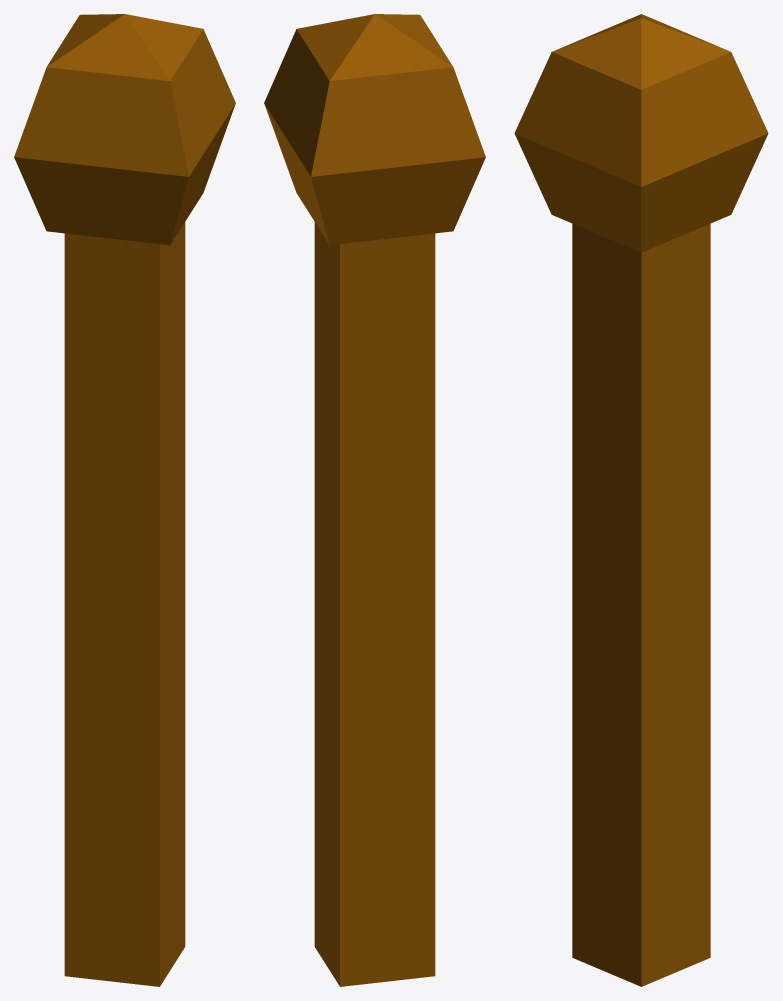
The model's file is GeländerSteher_1697.glb.
3 renders of one model, left to right at view 1: azimuth 30°, elevation 25°; view 2: azimuth 150°, elevation 25°; view 3: azimuth 270°, elevation 25°, orthographic.
Visible parts, largest first — view 1: pCylinderShape1, pSphereShape1; view 2: pCylinderShape1, pSphereShape1; view 3: pCylinderShape1, pSphereShape1.
Boxes of the visible parts, left/top/right/bottom form: pCylinderShape1: left=64, top=222, right=185, bottom=986; pSphereShape1: left=14, top=14, right=235, bottom=245; pCylinderShape1: left=314, top=222, right=435, bottom=986; pSphereShape1: left=264, top=14, right=485, bottom=245; pCylinderShape1: left=572, top=223, right=710, bottom=986; pSphereShape1: left=514, top=14, right=768, bottom=252.
Size of the model in its own units: 0.0446 by 0.1821 by 0.0446.
